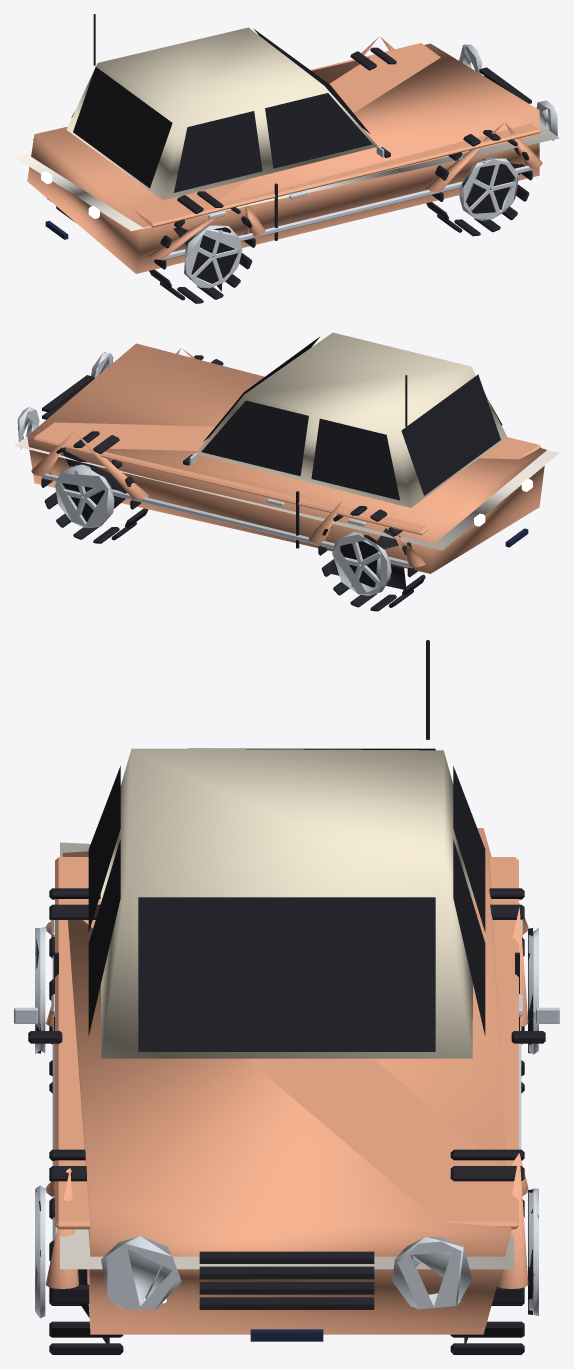
The model's file is car.glb.
The picture shows the model from 3 angles, top to bottom: view 1: azimuth 30°, elevation 25°; view 2: azimuth 150°, elevation 25°; view 3: azimuth 270°, elevation 25°; orthographic projection. The views are drawn at different scales.
Visible parts, largest first — view 1: car; view 2: car; view 3: car.
Part boxes in pixels (bbox=[...]): car: bbox=[14, 14, 559, 303]; car: bbox=[14, 332, 559, 611]; car: bbox=[14, 640, 559, 1354].
Bounding box in the file's own units: 4.28 × 1.94 × 2.26.
1 material, 1 textured.
